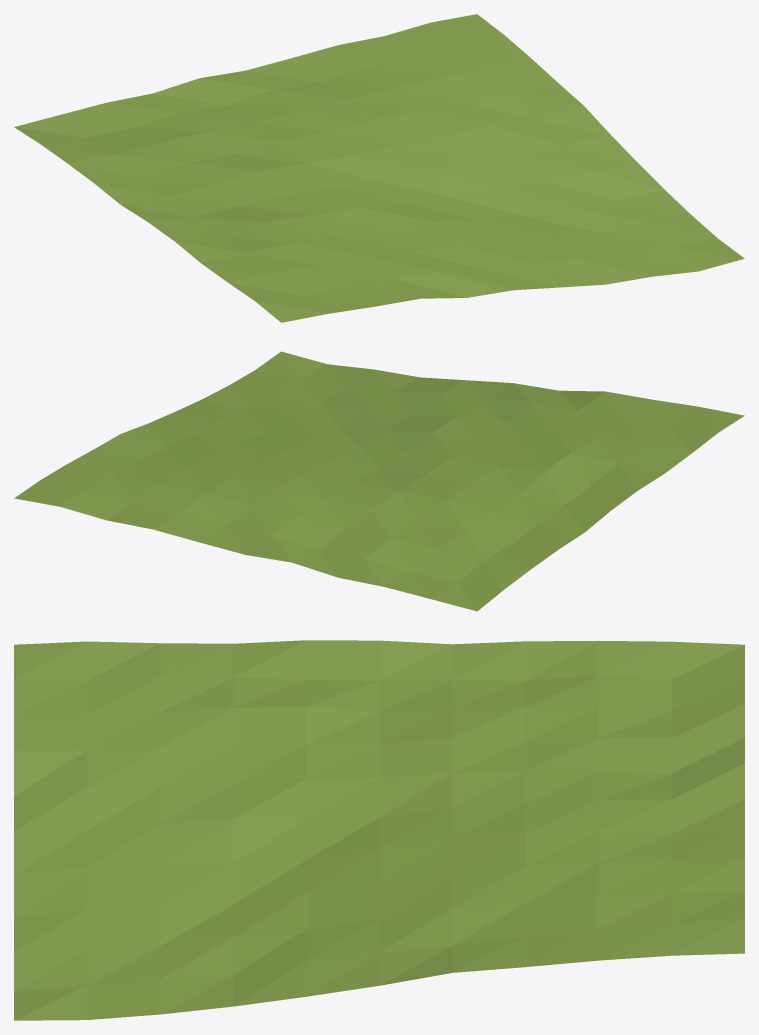
File: terrain-plane_03-4.fbx
The picture shows the model from 3 angles, top to bottom: view 1: azimuth 30°, elevation 25°; view 2: azimuth 150°, elevation 25°; view 3: azimuth 270°, elevation 25°; orthographic projection. The views are drawn at different scales.
Visible parts, largest first — view 1: terrain-plane_03-4; view 2: terrain-plane_03-4; view 3: terrain-plane_03-4.
Part boxes in pixels (box(x1,y1,x2,y2)): terrain-plane_03-4: box(14, 14, 744, 322); terrain-plane_03-4: box(14, 351, 744, 611); terrain-plane_03-4: box(14, 640, 744, 1020).
Bounding box in the file's own units: 2001 × 223 × 2000.
